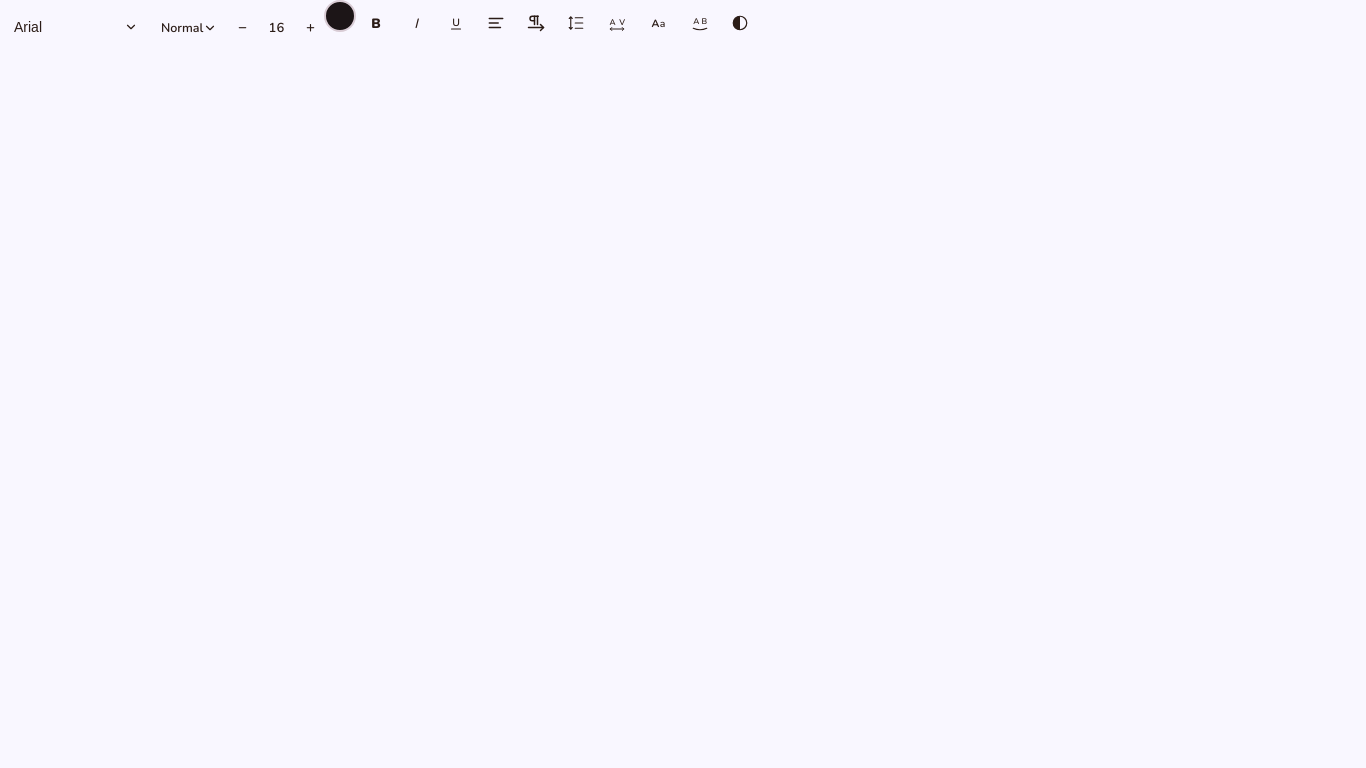
Test: font weight menu › does not claim that a system font has unverified intermediate weights
Click the button with test id "ed-font-weight" at {"x": 189, "y": 28}, box x1=150 y1=9 x2=228 y2=47
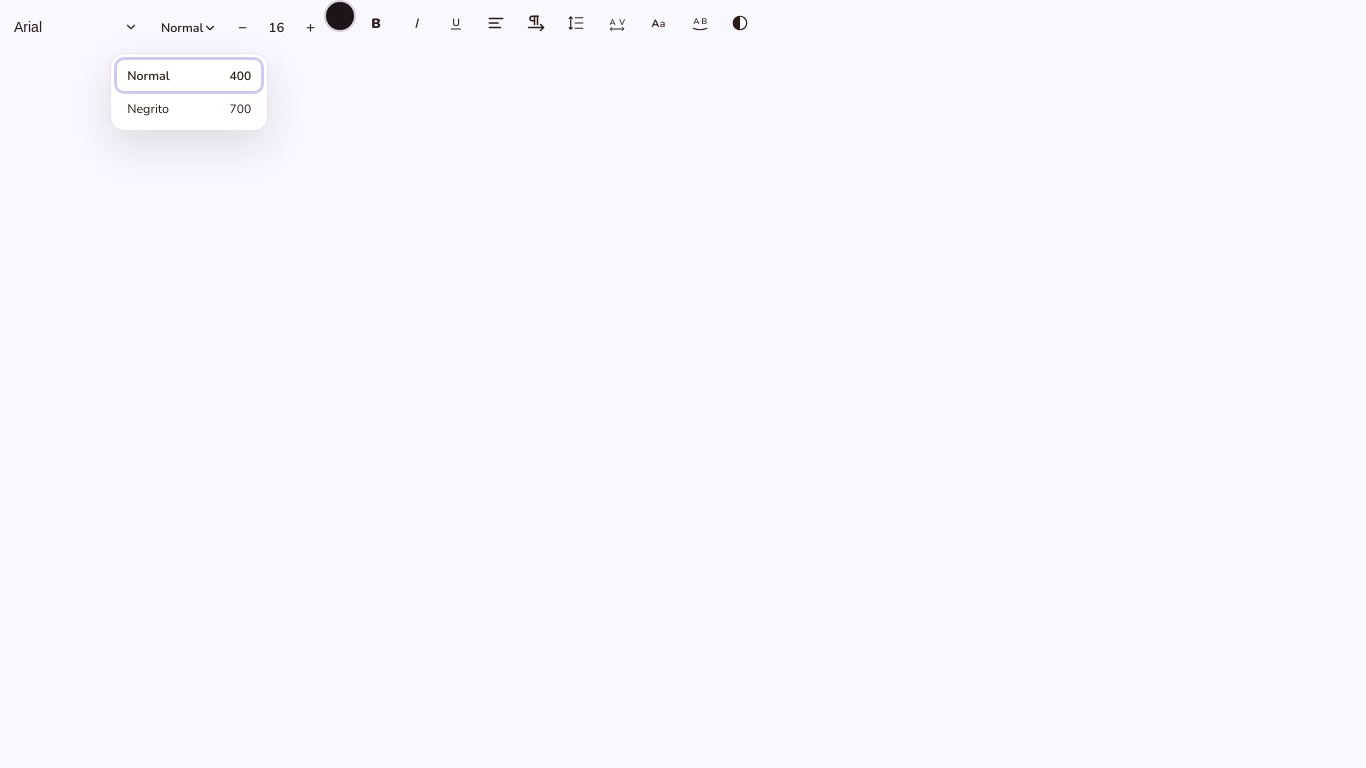
Check: the menu item with test id "ed-weight-400" is enabled, box x1=117 y1=60 x2=261 y2=91
Check: the menu item with test id "ed-weight-700" is enabled, box x1=117 y1=93 x2=261 y2=124
